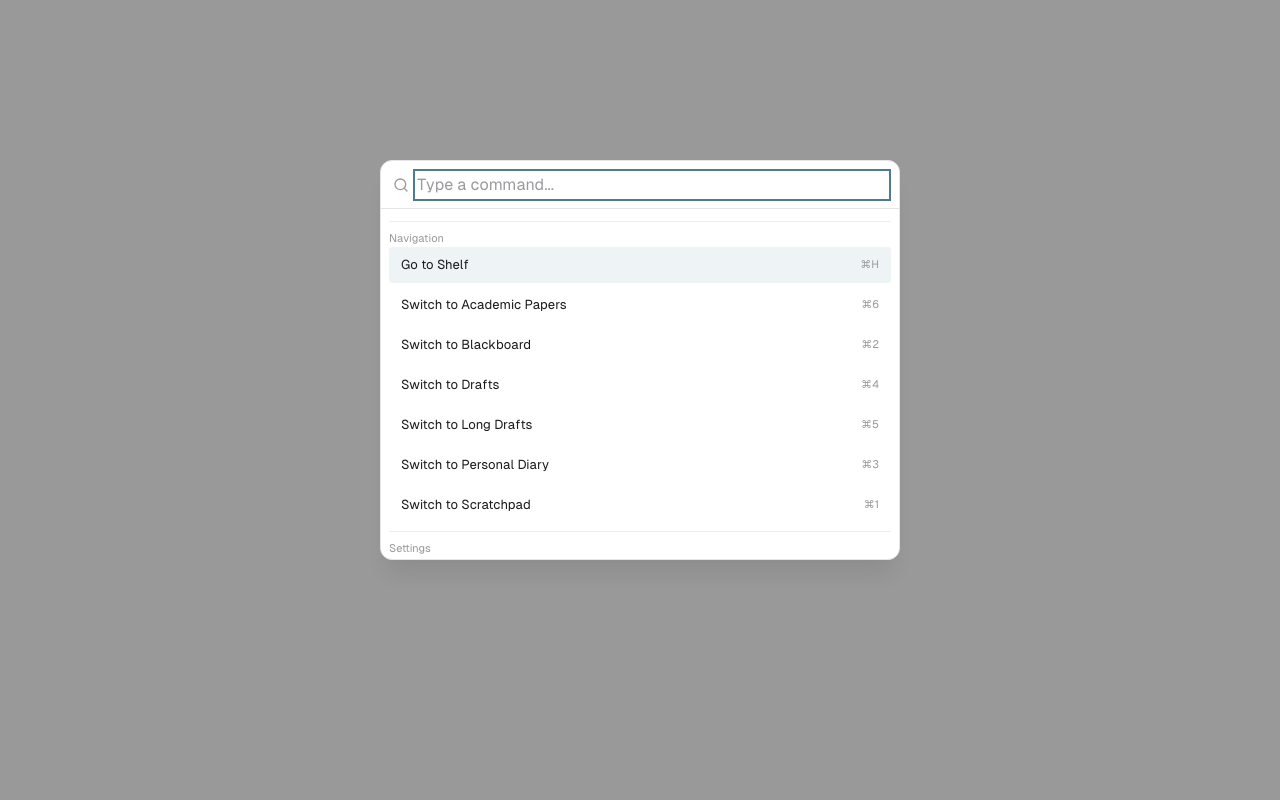
Test case: CommandPalette › shows empty-state results and clears active descendant when query has no matches
In the dropdown named "Command search": (652, 184) [417,172,887,196], type "@@@@"
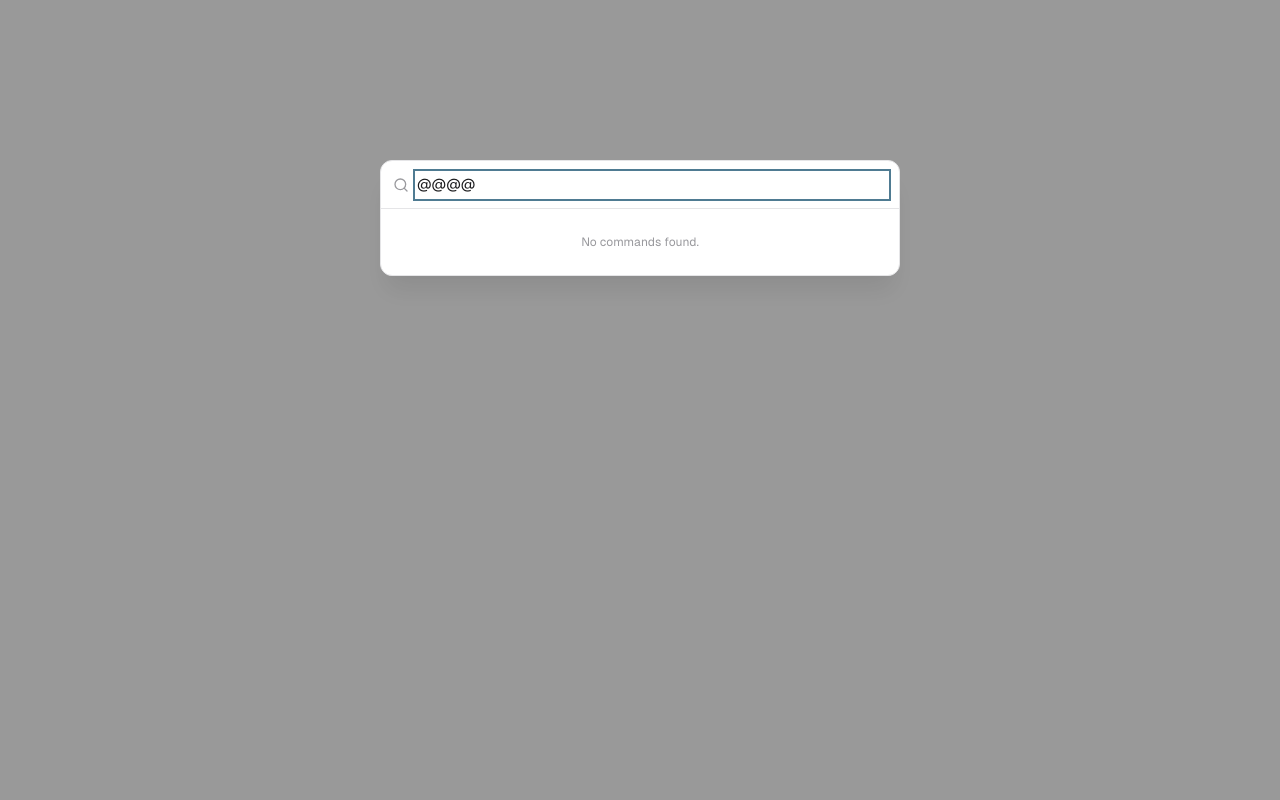
Check: the text "No commands found." is shown, box [581,235,699,249]
